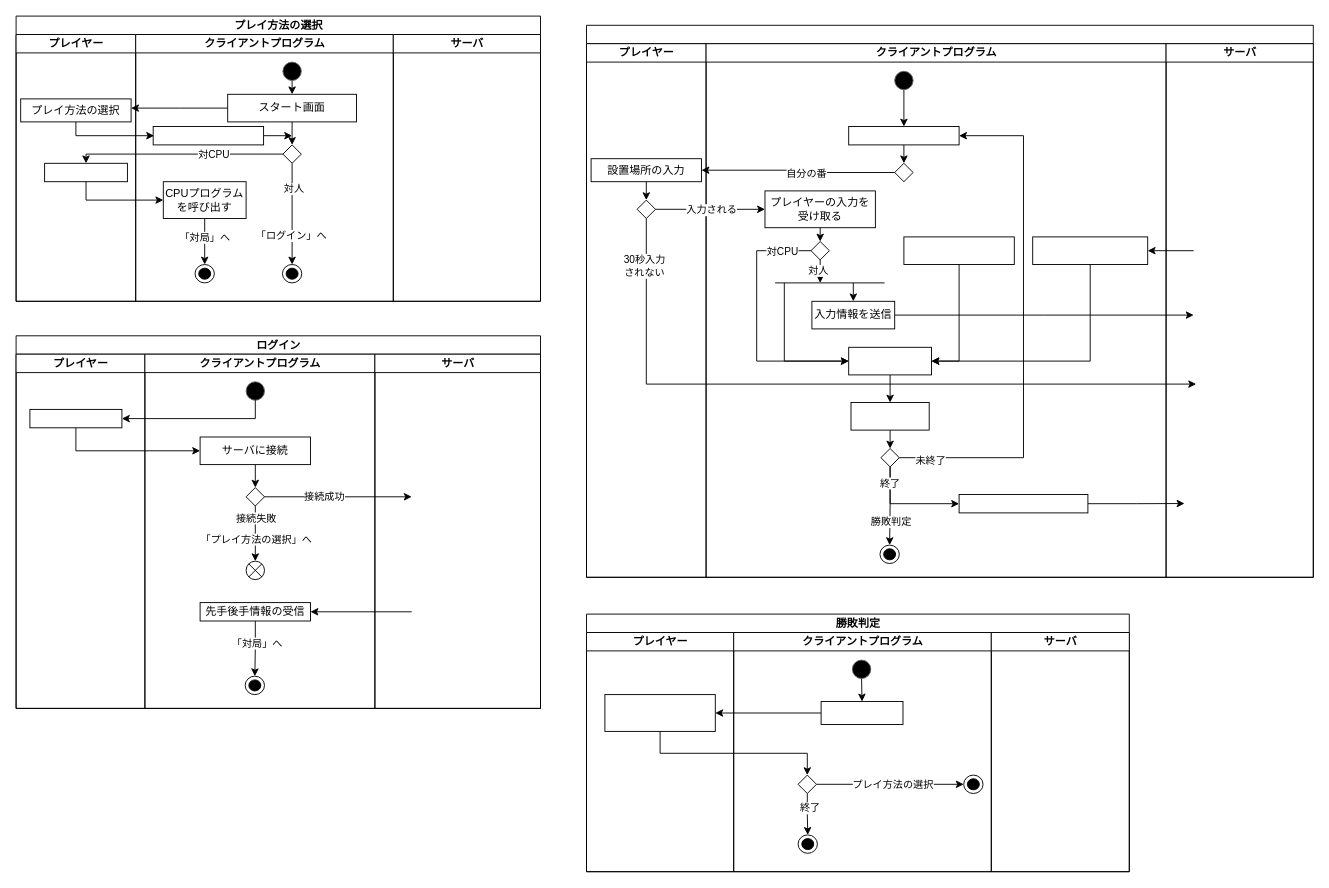
Some shapes in this 1329 by 888 pixel diagram are drawn without their labels. Here are the shapes that lost their labels. From the top down, the box of each, then its label:
(152, 126, 264, 145): 選択を受け取る
(848, 126, 959, 145): 盤面の表示
(44, 162, 127, 182): 先手後手の選択
(903, 236, 1014, 264): CPUの設置場所決定
(1032, 236, 1148, 264): 相手の入力を受け取る
(586, 24, 1313, 577): 対局する
(848, 346, 932, 375): 盤面の変更
(29, 408, 122, 428): プレイヤー名入力
(850, 402, 929, 430): 終了判定
(958, 494, 1088, 513): 終了したことを知らせる
(604, 694, 715, 731): 終了かスタート画面へ戻るか選択
(820, 701, 903, 724): 勝敗判定を出力
